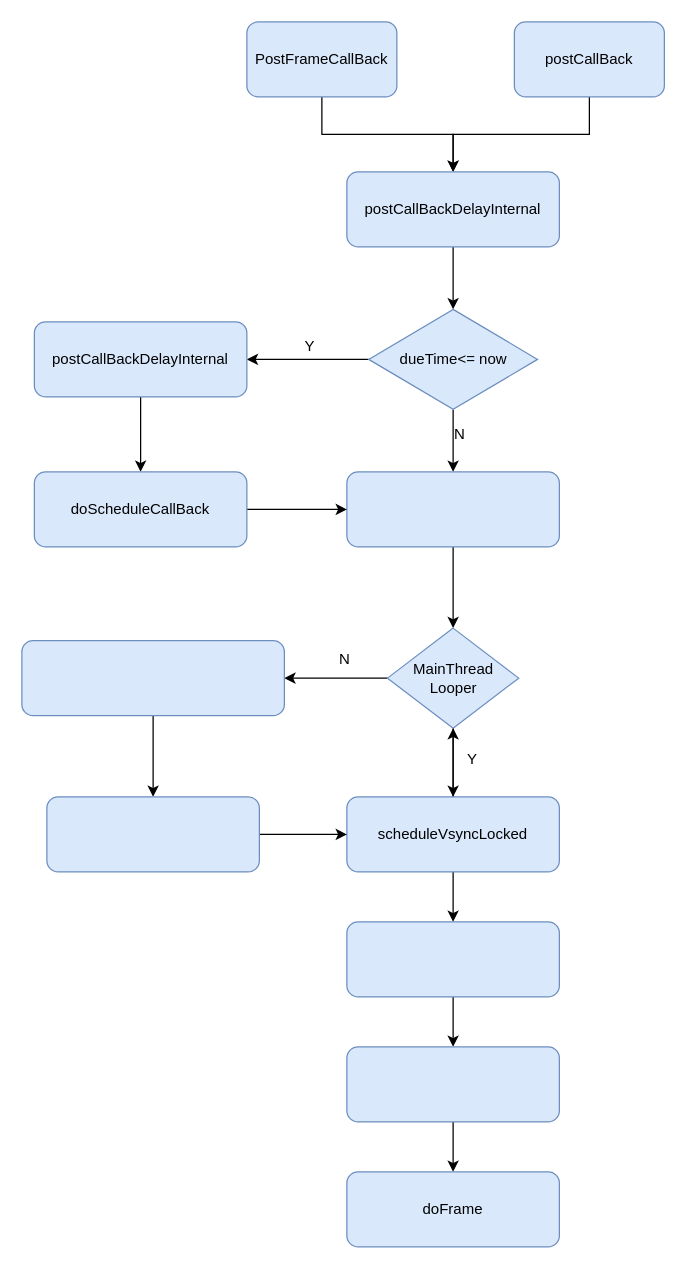
This 686x1269 diagram has some shape labels left out. Each missing label, with the centre of its shape:
doScheduleVsync: [152,834]
handle_post MSG_DO_SCHEDULE_VSYNC: [152,677]
onVsync: [452,1084]
scheduleFrameLocked: [452,509]
scheduleVsync: [452,959]
